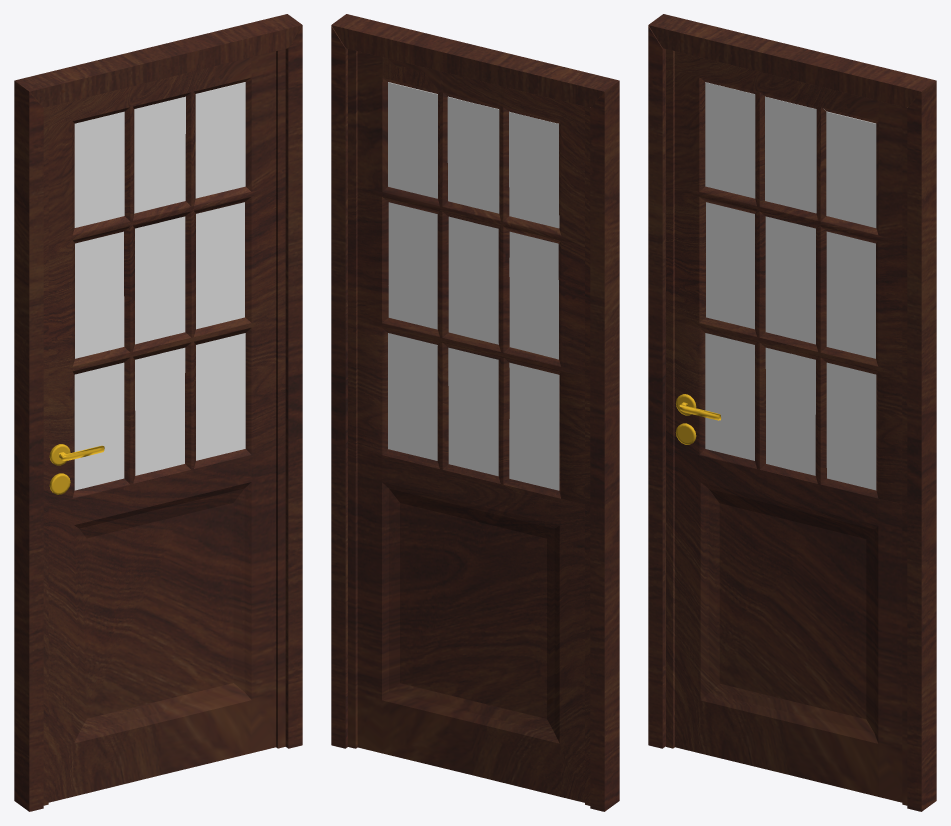
Rendered from PUERTA17_IMPERIA.glb.
3 renders of one model, left to right at view 1: azimuth 30°, elevation 25°; view 2: azimuth 150°, elevation 25°; view 3: azimuth 330°, elevation 25°, orthographic.
Visible parts, largest first — view 1: Puerta17_IMPERIA, CRISTAL_GRANDE, Puerta17_Marco, Puerta17_Cerradura; view 2: Puerta17_IMPERIA, CRISTAL_GRANDE, Puerta17_Marco; view 3: Puerta17_IMPERIA, CRISTAL_GRANDE, Puerta17_Marco, Puerta17_Cerradura.
Boxes of the visible parts, bbox=[...] form: Puerta17_IMPERIA: bbox=[43, 49, 285, 805]; CRISTAL_GRANDE: bbox=[74, 82, 245, 490]; Puerta17_Marco: bbox=[14, 14, 302, 811]; Puerta17_Cerradura: bbox=[49, 444, 104, 494]; Puerta17_IMPERIA: bbox=[348, 49, 590, 805]; CRISTAL_GRANDE: bbox=[388, 82, 559, 490]; Puerta17_Marco: bbox=[331, 14, 619, 811]; Puerta17_IMPERIA: bbox=[666, 49, 907, 805]; CRISTAL_GRANDE: bbox=[705, 82, 876, 490]; Puerta17_Marco: bbox=[648, 14, 936, 811]; Puerta17_Cerradura: bbox=[675, 394, 721, 444].
Size of the model in its own units: 769 by 1936 by 85.
Materials: 5 (3 with a texture image).
